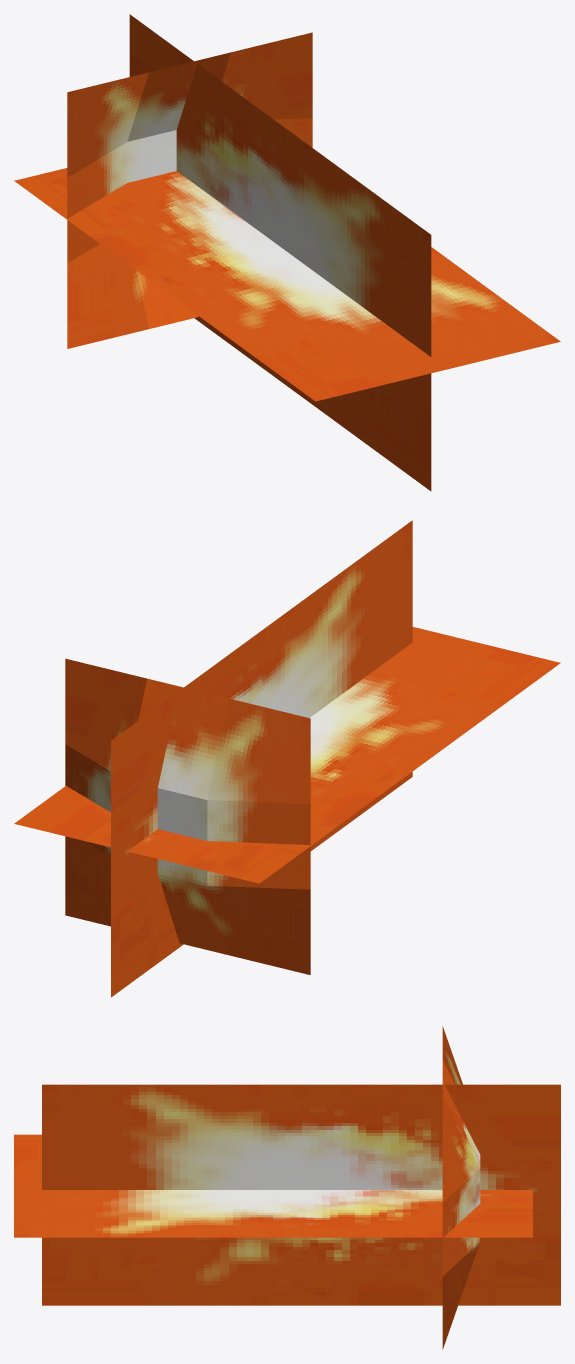
The model's file is Pistol Muzzle Flash.fbx.
3 renders of one model, top to bottom at view 1: azimuth 30°, elevation 25°; view 2: azimuth 150°, elevation 25°; view 3: azimuth 270°, elevation 25°, orthographic. The views are drawn at different scales.
Parts seen in each view (by area): view 1: Muzzle Flash; view 2: Muzzle Flash; view 3: Muzzle Flash.
Part boxes in pixels (<box>): Muzzle Flash: <box>14,14,560,491</box>; Muzzle Flash: <box>14,520,560,997</box>; Muzzle Flash: <box>14,1026,560,1349</box>.
Bounding box in the file's own units: 116 × 117 × 259.
